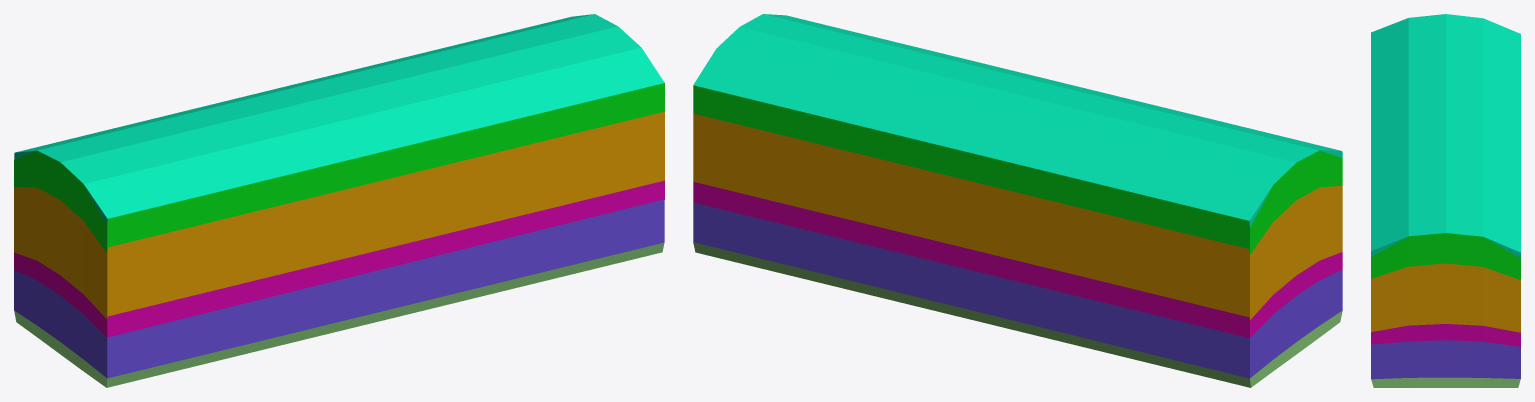
Rendered from fixed_locotrain2.fbx.
3 renders of one model, left to right at view 1: azimuth 30°, elevation 25°; view 2: azimuth 150°, elevation 25°; view 3: azimuth 270°, elevation 25°, orthographic. The views are drawn at different scales.
Visible parts, largest first — view 1: Cube; view 2: Cube; view 3: Cube.
Part boxes in pixels (box(x1,y1,x2,y2)): Cube: box(14, 14, 664, 387); Cube: box(693, 14, 1342, 387); Cube: box(1371, 14, 1520, 387).
Bounding box in the file's own units: 206 × 712 × 235.
